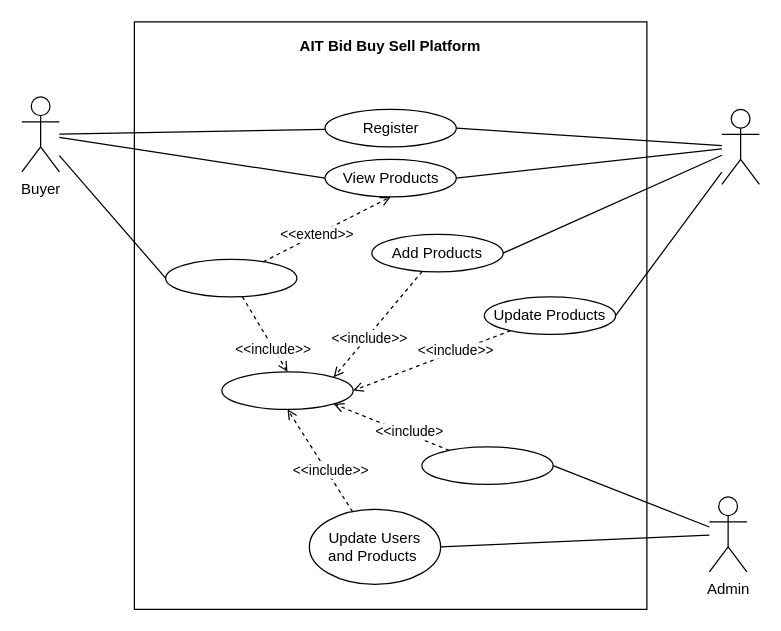
This 781x631 diagram has some shape labels left out. The shapes that lost their labels are listed below. From the top down, each one's box as (x1, y1, x2, y2) in pixels, then its label:
(721, 108, 759, 184): Seller
(164, 258, 297, 297): Bid on Products
(221, 371, 353, 409): Login
(421, 446, 553, 484): View Dashboard
